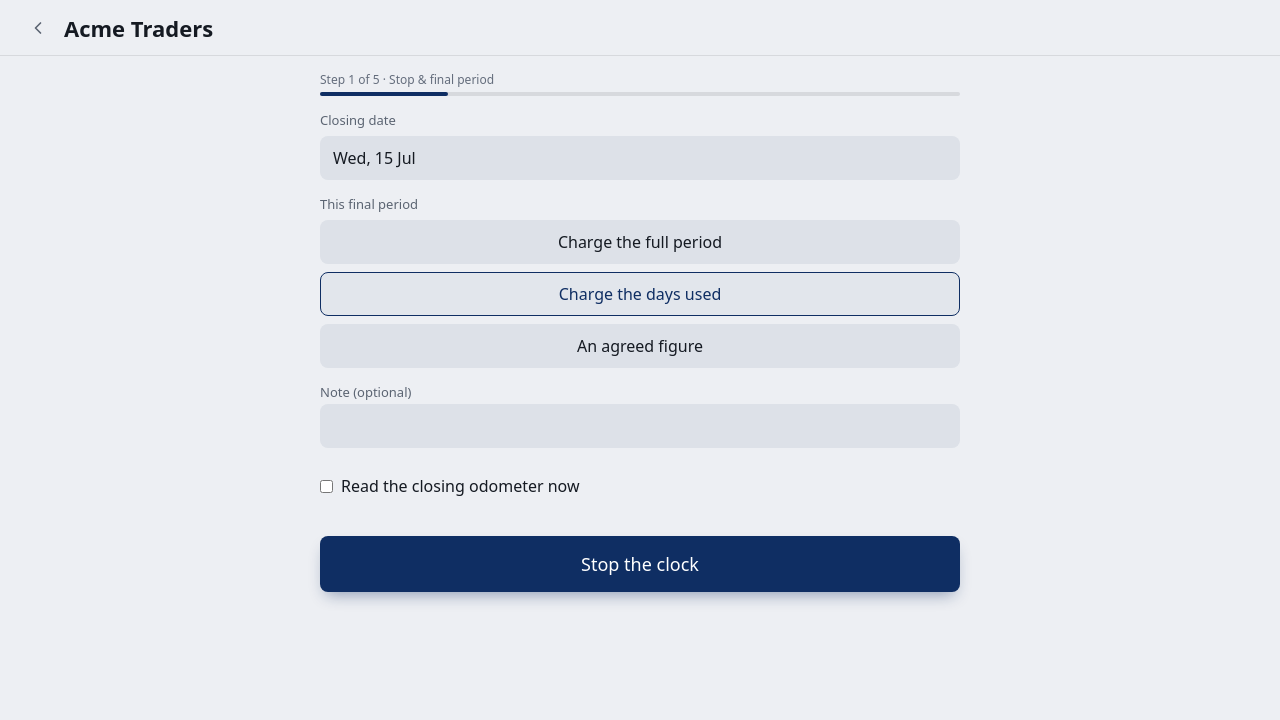
Test case: the closure summary lists unpaid dues and any open incident
What coordinates should you click on to do the following:
click the button "Stop the clock"
I would click on:
 (640, 564)
Its box is [320,536,960,592].
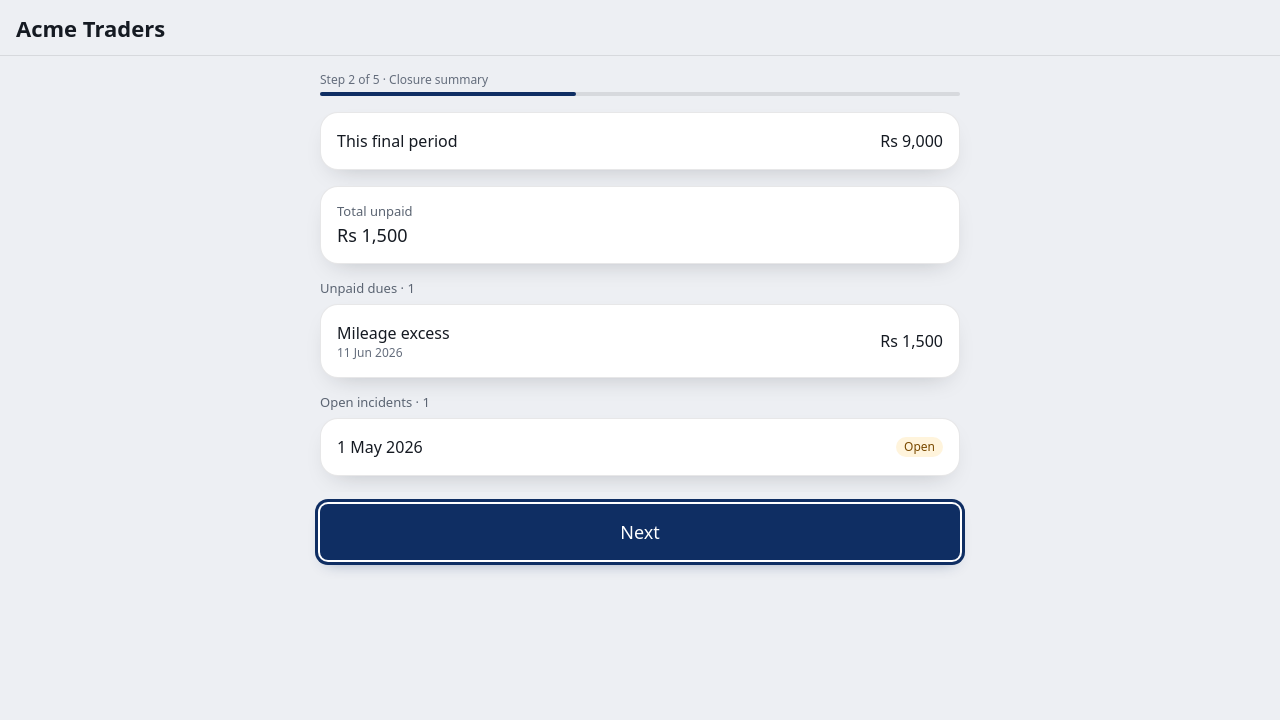
Result: the text "Total unpaid" is shown at [337,203,413,219]
Result: the text "Rs 1,500" is shown 2 times at [337,223,408,247]; [880,329,943,353]
Result: the heading "Unpaid dues · 1" is shown at [320,280,415,296]
